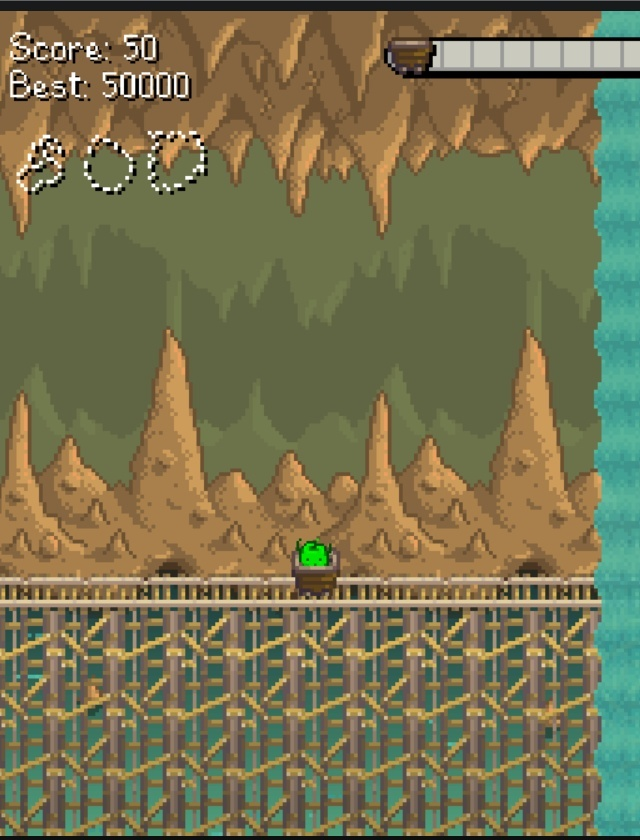minecart: (292, 539, 337, 592)
tracks: (1, 568, 284, 618)
